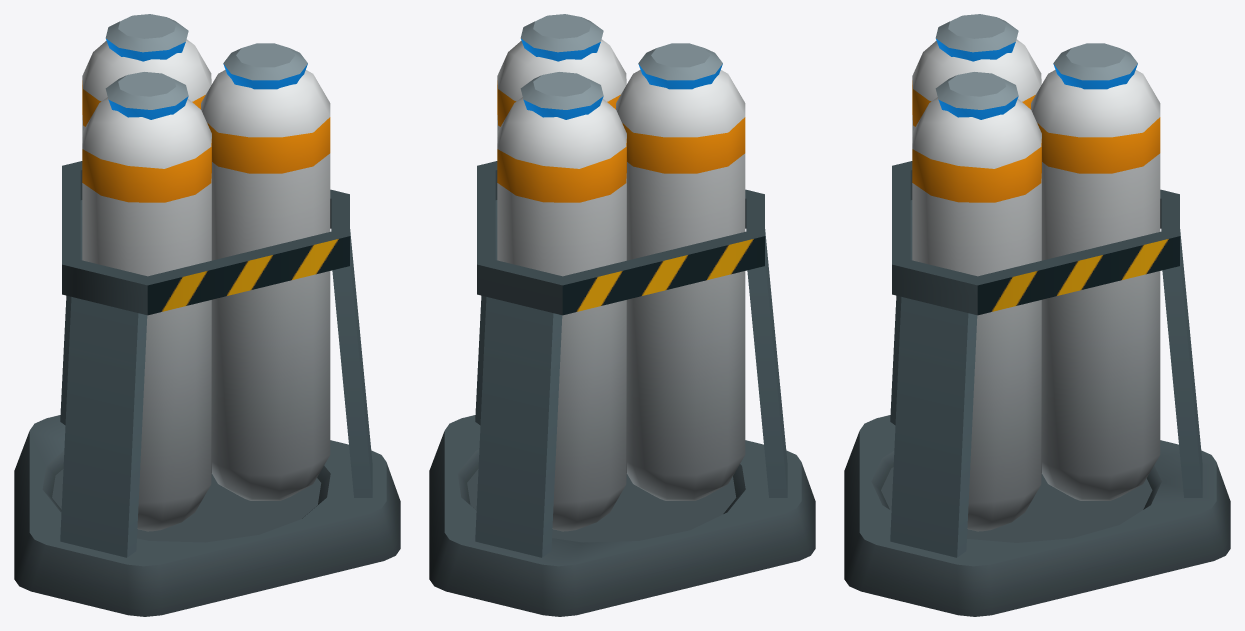
The model's file is Baloon_002.glb.
The picture shows the model from 3 angles, left to right: view 1: azimuth 30°, elevation 25°; view 2: azimuth 150°, elevation 25°; view 3: azimuth 270°, elevation 25°; orthographic projection.
Visible parts, largest first — view 1: Baloon_002; view 2: Baloon_002; view 3: Baloon_002.
Boxes of the visible parts, box(x1,y1,x2,y2) form: Baloon_002: box(14, 14, 400, 616); Baloon_002: box(429, 14, 815, 616); Baloon_002: box(844, 14, 1230, 616).
Size of the model in its own units: 1.02 by 1.22 by 0.9092.
2 materials, 2 textured.
